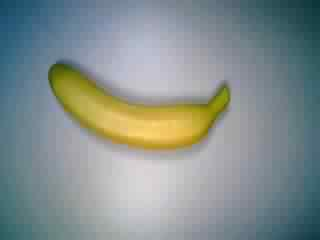banana: (47, 62, 234, 150)
